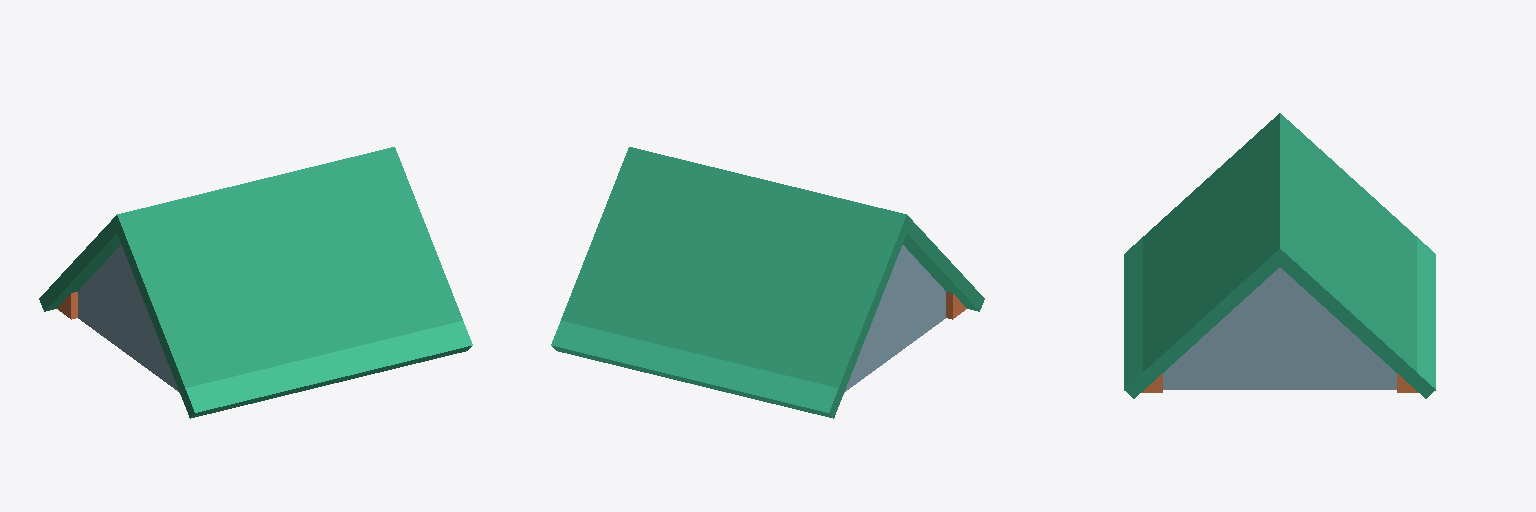
Rendered from roofGable.obj.
The picture shows the model from 3 angles: view 1: azimuth 30°, elevation 25°; view 2: azimuth 150°, elevation 25°; view 3: azimuth 270°, elevation 25°; orthographic projection.
Parts seen in each view (by area): view 1: roofGable; view 2: roofGable; view 3: roofGable.
Part boxes in pixels (left/top/right/bottom): roofGable: left=39, top=147, right=472, bottom=418; roofGable: left=551, top=147, right=984, bottom=418; roofGable: left=1124, top=113, right=1435, bottom=398.
Size of the model in its own units: 1.1 by 0.5707 by 1.07.